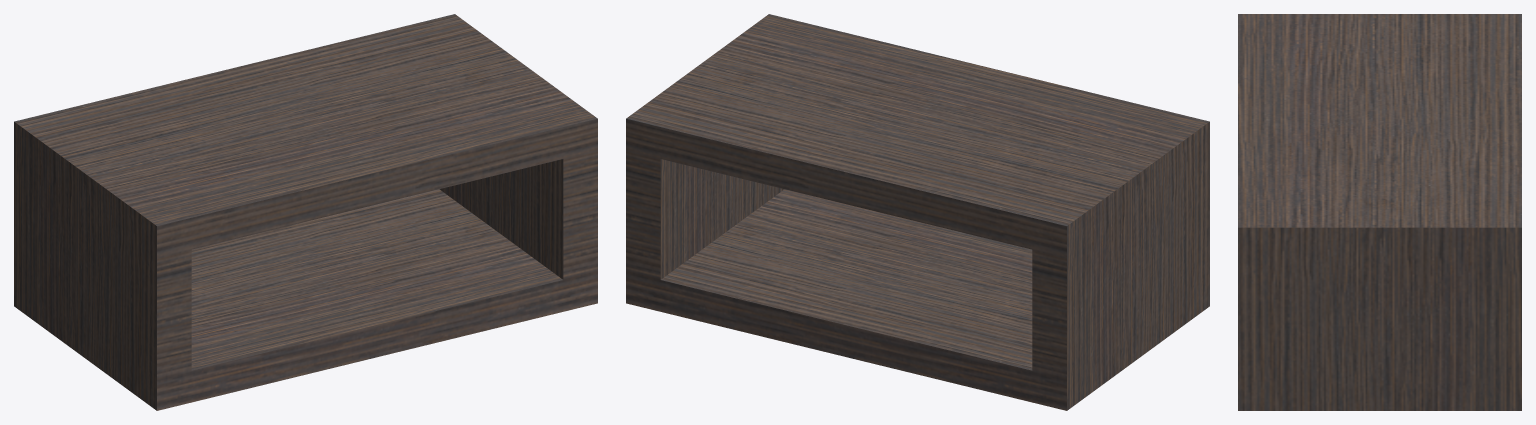
Rendered from Table_26.glb.
3 views of the same model, side by side, from view 1: azimuth 30°, elevation 25°; view 2: azimuth 150°, elevation 25°; view 3: azimuth 270°, elevation 25° (orthographic).
Visible parts, largest first — view 1: Table_26; view 2: Table_26; view 3: Table_26.
Part boxes in pixels (<box>): Table_26: <box>14,14,597,410</box>; Table_26: <box>626,14,1209,410</box>; Table_26: <box>1238,14,1521,410</box>.
Size of the model in its own units: 1.32 by 0.5269 by 0.7391.
1 material, 1 textured.
